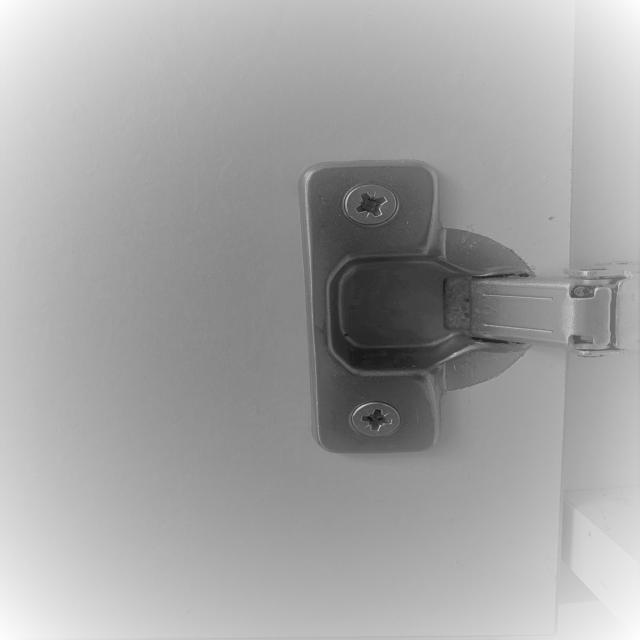PhillipsScrewHead: (345, 183, 398, 226), (350, 401, 402, 438)
